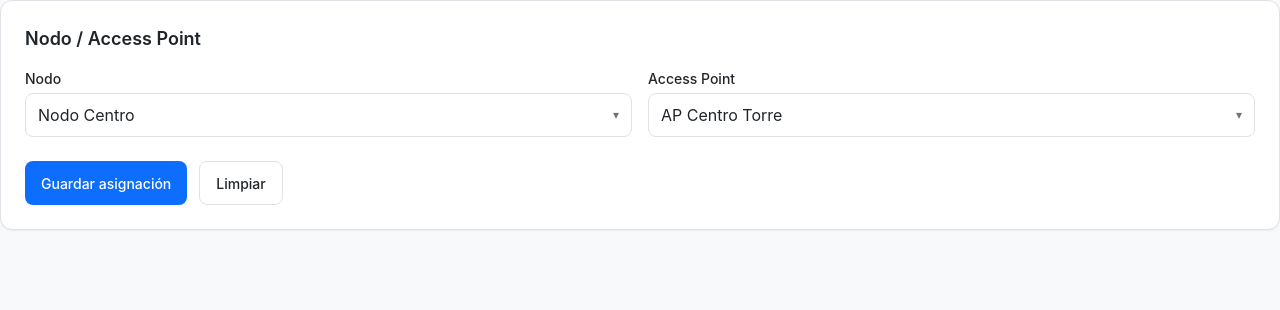
ContractNetworkAssignmentPicker › N3 — clears the pending success-toast timeout on unmount (no leak)
The width and height of the screenshot is (1280, 310).
What coordinates should you click on to do the following:
click the button with test id "network-assignment-save-button"
I would click on:
 (106, 183)
Its box is [25,161,187,205].
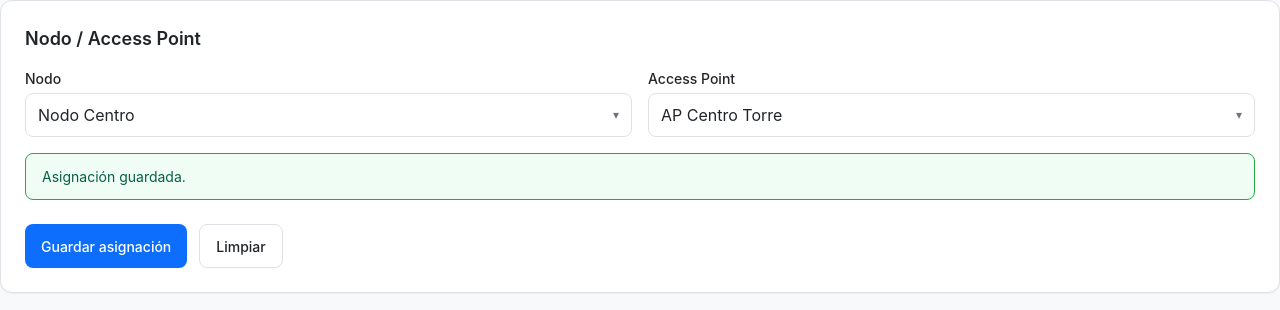
Expected: the message "Asignación guardada." is shown, [25,153,1255,200]
